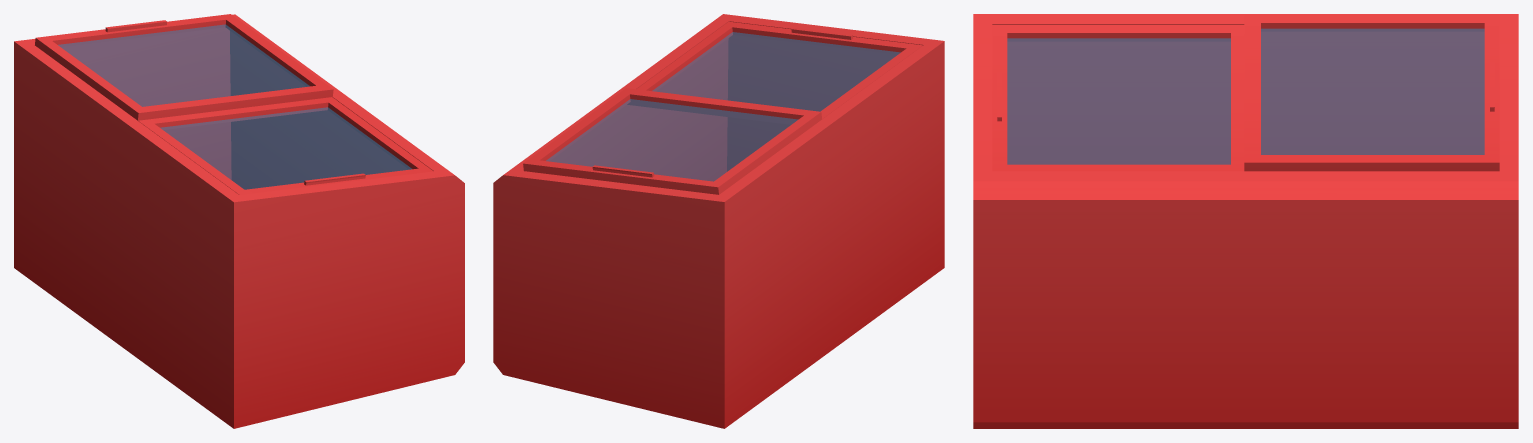
The model's file is ice_fridge_red.fbx.
3 views of the same model, side by side, from view 1: azimuth 30°, elevation 25°; view 2: azimuth 150°, elevation 25°; view 3: azimuth 270°, elevation 25° (orthographic). The views are drawn at different scales.
Parts seen in each view (by area): view 1: ice_fridge_red, ice_fridge_door1_red, ice_fridge_door2_red; view 2: ice_fridge_red, ice_fridge_door1_red, ice_fridge_door2_red; view 3: ice_fridge_red, ice_fridge_door1_red, ice_fridge_door2_red.
Boxes of the visible parts, <box> form: ice_fridge_red: <box>14,14,464,428</box>; ice_fridge_door1_red: <box>35,14,333,120</box>; ice_fridge_door2_red: <box>138,97,433,194</box>; ice_fridge_red: <box>493,14,944,428</box>; ice_fridge_door1_red: <box>523,88,821,194</box>; ice_fridge_door2_red: <box>627,21,922,124</box>; ice_fridge_red: <box>973,14,1518,428</box>; ice_fridge_door1_red: <box>1244,15,1499,171</box>; ice_fridge_door2_red: <box>992,25,1244,171</box>.
Bounding box in the file's own units: 652 × 627 × 1076.
